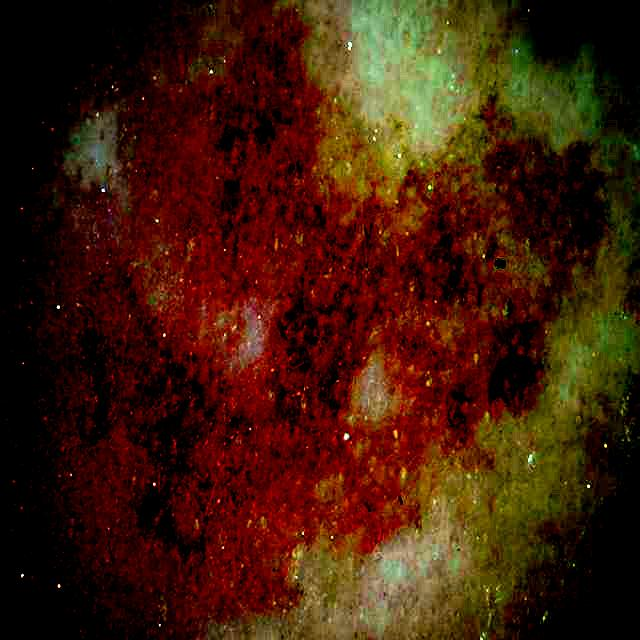MEL: (83, 44, 604, 565)
